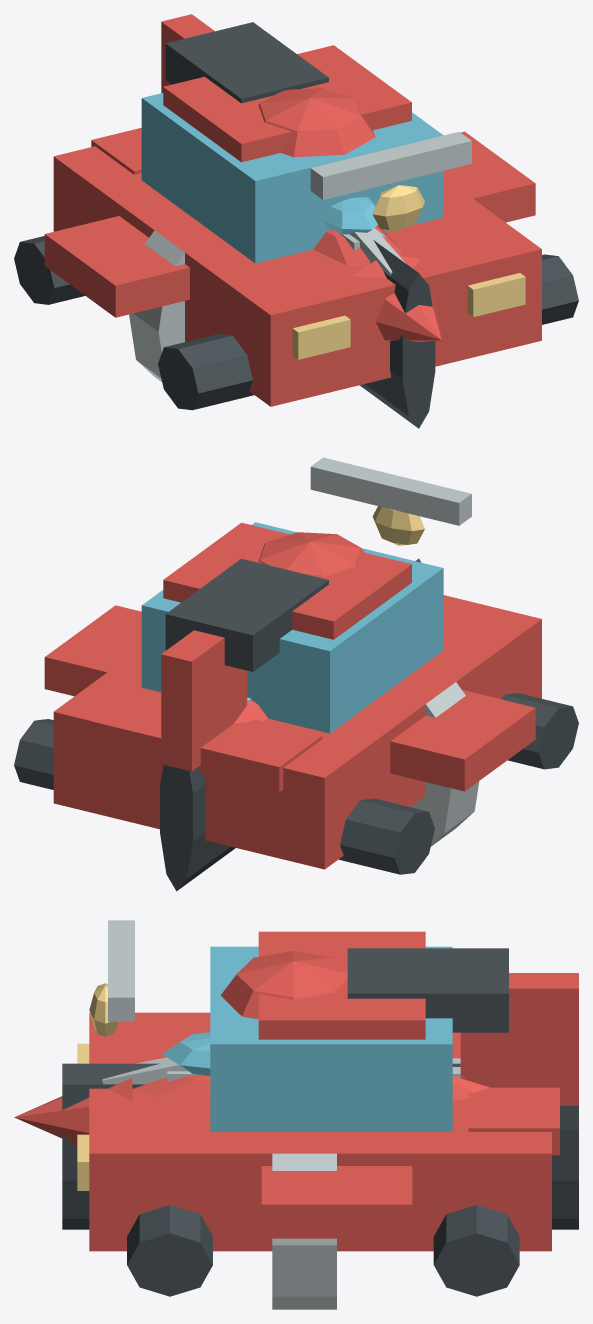
File: player-tokens.glb
3 views of the same model, one above another, from view 1: azimuth 30°, elevation 25°; view 2: azimuth 150°, elevation 25°; view 3: azimuth 270°, elevation 25° (orthographic). The views are drawn at different scales.
Parts seen in each view (by area): view 1: Car_Lower_Body, Car_Cabin, Plane_Wing, Car_Roof, Moto_Seat, Moto_Tank, Moto_Handlebar, Car_Wheel, Moto_Wheel, Plane_Engine, Plane_Nose, Car_Wheel.001 (+9 smaller); view 2: Car_Lower_Body, Car_Cabin, Plane_Wing, Moto_Seat, Plane_Tail_Wing, Car_Roof, Plane_Fin, Moto_Handlebar, Car_Wheel.001, Moto_Wheel.001, Moto_Tank, Car_Wheel (+3 smaller); view 3: Car_Lower_Body, Car_Cabin, Car_Roof, Plane_Fin, Plane_Wing, Moto_Seat, Car_Wheel.003, Car_Wheel.002, Plane_Engine.001, Moto_Tank, Plane_Tail_Wing, Moto_Wheel (+8 smaller).
Part boxes in pixels (left/top/right/bottom): Car_Lower_Body: left=53, top=146, right=541, bottom=406; Car_Cabin: left=141, top=93, right=443, bottom=263; Plane_Wing: left=44, top=131, right=535, bottom=317; Car_Roof: left=163, top=45, right=411, bottom=162; Moto_Seat: left=165, top=22, right=328, bottom=103; Moto_Tank: left=258, top=88, right=375, bottom=157; Moto_Handlebar: left=310, top=131, right=471, bottom=199; Car_Wheel: left=158, top=334, right=254, bottom=410; Moto_Wheel: left=360, top=240, right=435, bottom=428; Plane_Engine: left=129, top=230, right=184, bottom=381; Plane_Nose: left=352, top=255, right=441, bottom=342; Car_Wheel.001: left=14, top=236, right=84, bottom=304; Car_Lower_Body: left=53, top=595, right=541, bottom=869; Car_Cabin: left=141, top=522, right=443, bottom=733; Plane_Wing: left=44, top=605, right=535, bottom=791; Moto_Seat: left=165, top=558, right=328, bottom=671; Plane_Tail_Wing: left=91, top=690, right=322, bottom=792; Car_Roof: left=163, top=522, right=411, bottom=639; Plane_Fin: left=161, top=630, right=247, bottom=771; Moto_Handlebar: left=310, top=457, right=471, bottom=525; Car_Wheel.001: left=339, top=798, right=434, bottom=874; Moto_Wheel.001: left=160, top=765, right=235, bottom=891; Moto_Tank: left=258, top=532, right=364, bottom=577; Car_Wheel: left=501, top=693, right=578, bottom=769; Car_Lower_Body: left=89, top=1012, right=551, bottom=1251; Car_Cabin: left=210, top=946, right=452, bottom=1131; Car_Roof: left=258, top=931, right=425, bottom=1039; Plane_Fin: left=460, top=973, right=578, bottom=1105; Plane_Wing: left=261, top=1166, right=412, bottom=1238; Moto_Seat: left=347, top=948, right=508, bottom=1032; Car_Wheel.003: left=433, top=1205, right=519, bottom=1296; Car_Wheel.002: left=127, top=1205, right=212, bottom=1296; Plane_Engine.001: left=272, top=1153, right=336, bottom=1309; Moto_Tank: left=220, top=951, right=347, bottom=1019; Plane_Tail_Wing: left=468, top=1087, right=559, bottom=1155; Moto_Wheel: left=62, top=1063, right=159, bottom=1229.
Size of the model in its own units: 0.96 by 0.575 by 1.05.
